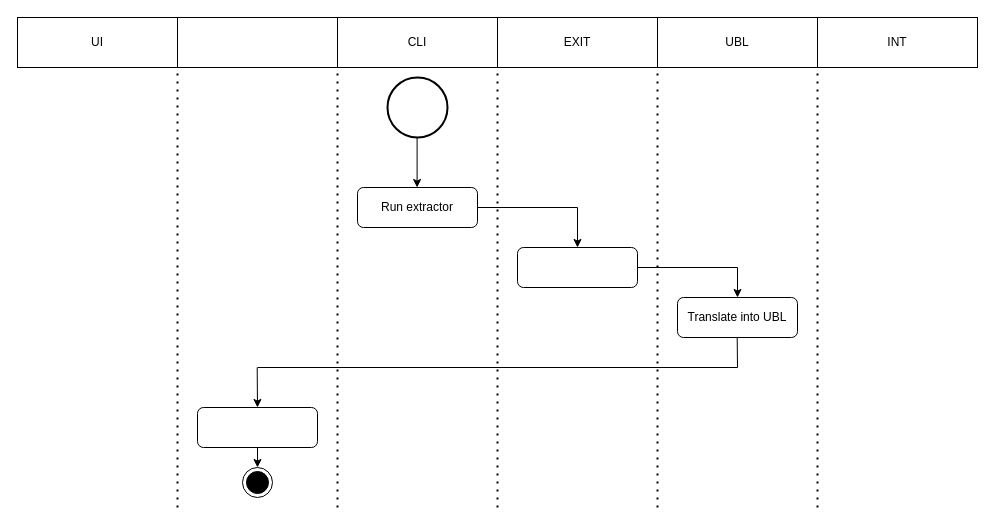
Some shapes in this 995 by 527 pixel diagram are drawn without their labels. The shapes that lost their labels are listed below. From the top down, each one's box as (x1, y1, x2, y2) in pixels, then its label:
(176, 16, 338, 68): HOST
(386, 76, 448, 138): Invoice Trigger
(516, 246, 638, 288): Run user exit methods
(196, 406, 318, 448): Save to database
